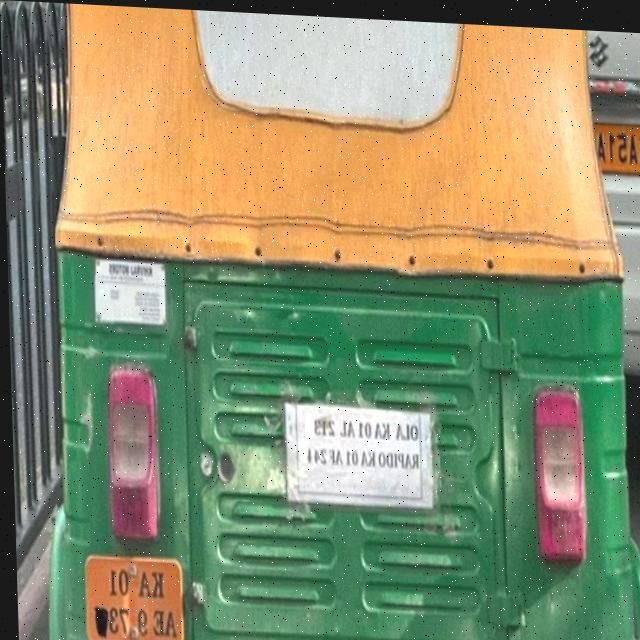plate: (74, 546, 188, 640)
